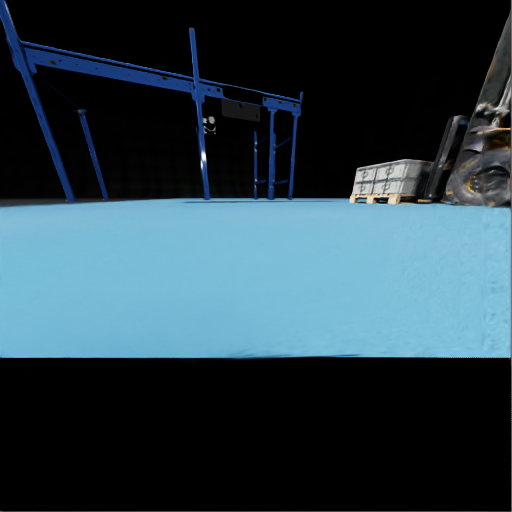transportation_area: (373, 178, 427, 194), (365, 166, 366, 169), (208, 89, 209, 90), (193, 86, 194, 87)
